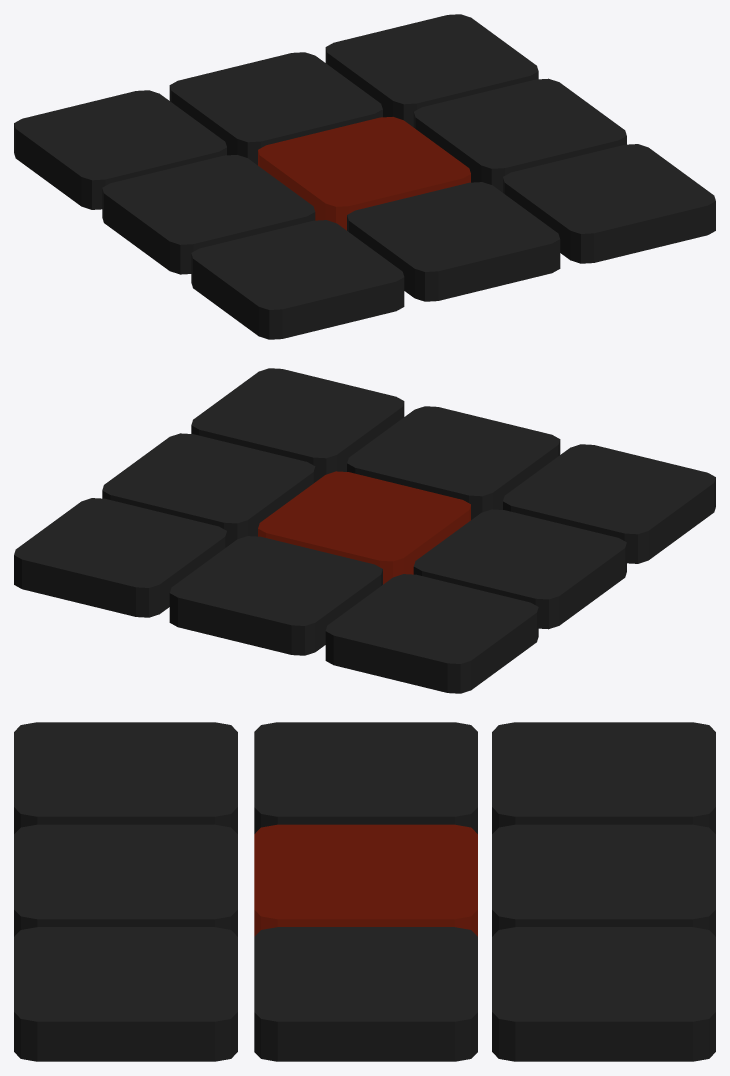
Rendered from land.glb.
The picture shows the model from 3 angles, top to bottom: view 1: azimuth 30°, elevation 25°; view 2: azimuth 150°, elevation 25°; view 3: azimuth 270°, elevation 25°; orthographic projection. The views are drawn at different scales.
Visible parts, largest first — view 1: land; view 2: land; view 3: land.
Part boxes in pixels (x1=…): land: x1=14, y1=14, x2=715, y2=339; land: x1=14, y1=368, x2=715, y2=693; land: x1=14, y1=722, x2=715, y2=1061.
Size of what is drawn, in the model's own units: 1.98 by 0.1235 by 1.96.
2 materials, 2 textured.
